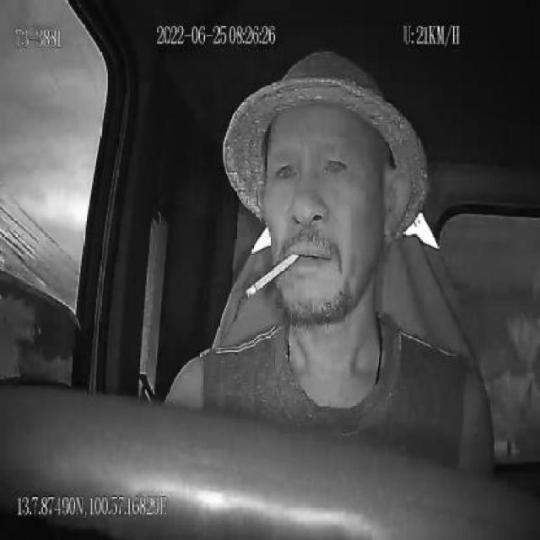smoking: (246, 249, 301, 299)
